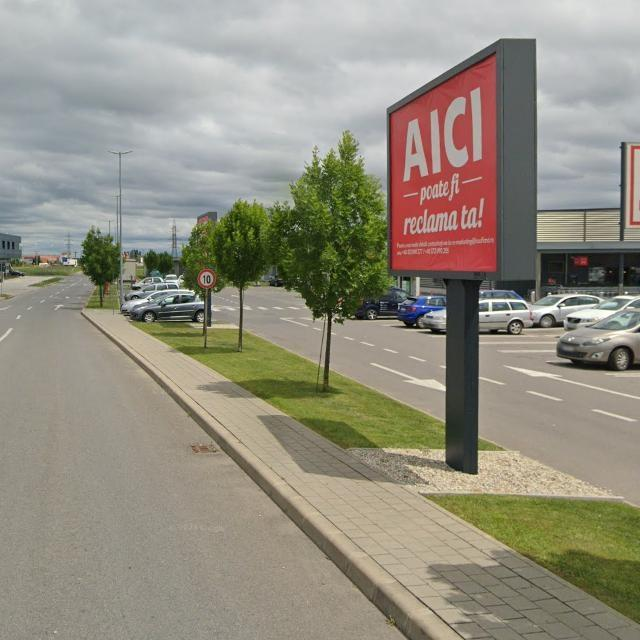forb_speed_over_10: (198, 270, 217, 289)
